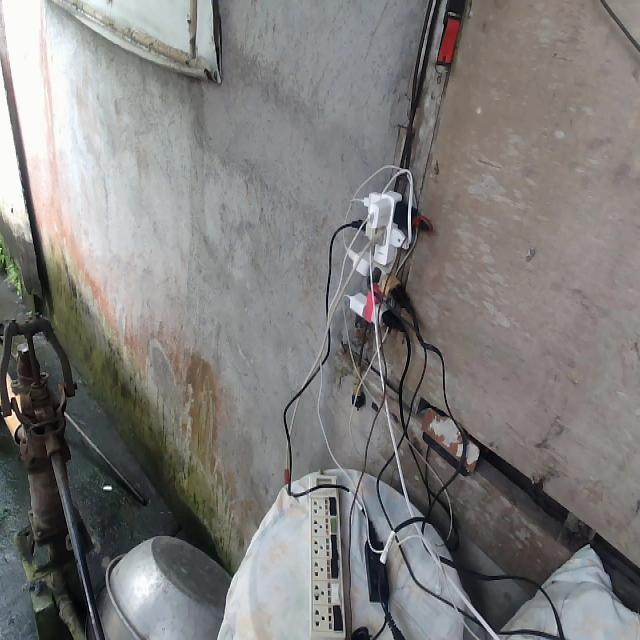-: (345, 184, 413, 332)
